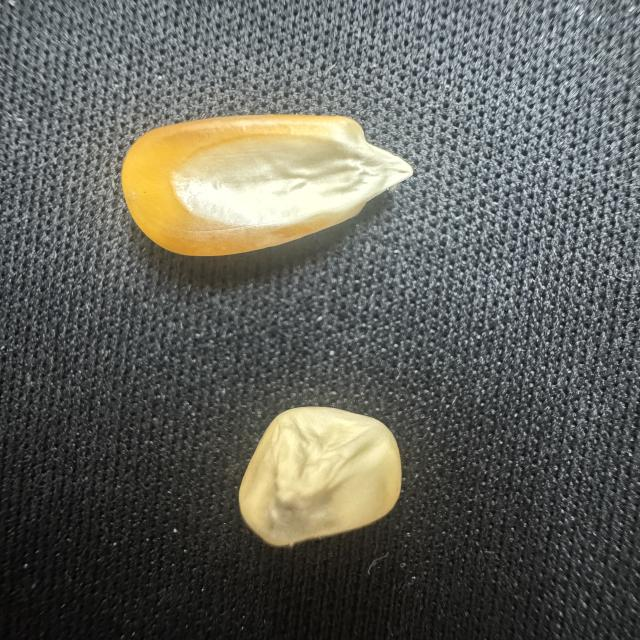Bad-Seed: (225, 394, 428, 566)
Good-Seed: (108, 107, 424, 268)
